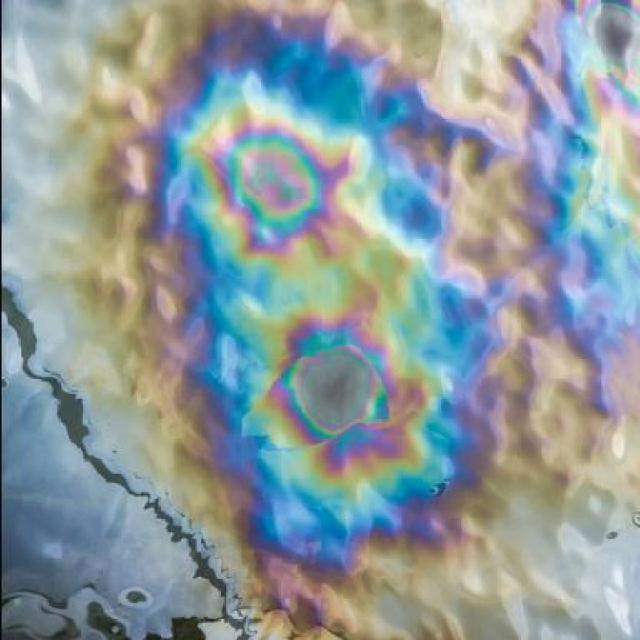oil: (123, 1, 640, 640)
